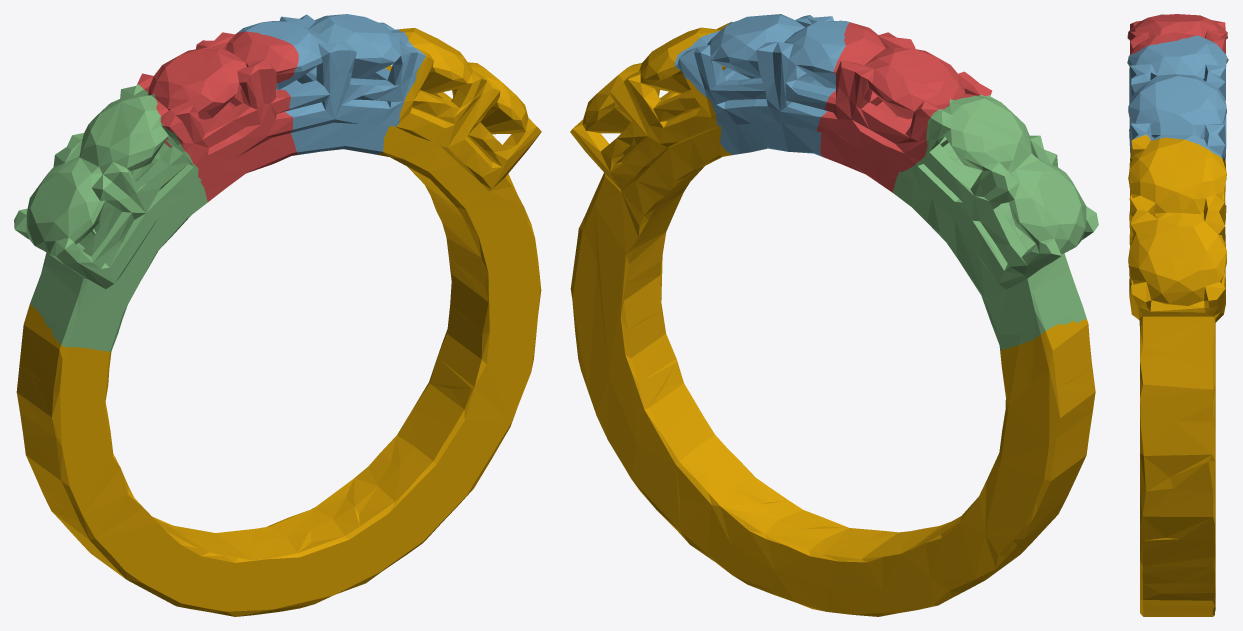
Rendered from fractured_53_4pcs.glb.
The picture shows the model from 3 angles, left to right: view 1: azimuth 30°, elevation 25°; view 2: azimuth 150°, elevation 25°; view 3: azimuth 270°, elevation 25°; orthographic projection. The views are drawn at different scales.
Parts seen in each view (by area): view 1: piece_0.obj, piece_3.obj, piece_1.obj, piece_2.obj; view 2: piece_0.obj, piece_3.obj, piece_2.obj, piece_1.obj; view 3: piece_0.obj, piece_2.obj, piece_1.obj.
Part boxes in pixels (x1,y1,x2,y2): piece_0.obj: (16, 28, 541, 616); piece_3.obj: (14, 83, 207, 351); piece_1.obj: (137, 31, 298, 201); piece_2.obj: (238, 14, 425, 155); piece_0.obj: (570, 21, 1095, 616); piece_3.obj: (892, 94, 1098, 350); piece_2.obj: (674, 14, 849, 157); piece_1.obj: (817, 22, 991, 192); piece_0.obj: (1128, 135, 1226, 616); piece_2.obj: (1128, 35, 1226, 159); piece_1.obj: (1127, 14, 1227, 55).
Bounding box in the file's own units: 0.91 × 1 × 0.1681.
